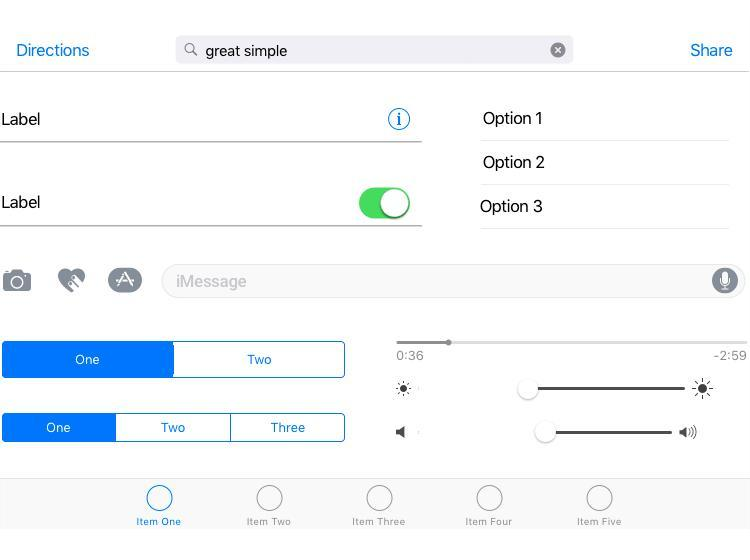icon: (105, 263, 144, 299), (51, 264, 92, 297), (1, 263, 35, 298), (713, 266, 743, 300), (387, 104, 416, 139), (690, 376, 716, 401), (395, 379, 417, 403), (679, 420, 699, 442), (395, 418, 413, 442)
input: (165, 265, 750, 298), (179, 37, 573, 66)
radio: (253, 484, 286, 514), (145, 485, 177, 515), (365, 484, 398, 513), (474, 484, 505, 514), (585, 486, 616, 514)
slider: (420, 421, 676, 445), (419, 381, 689, 402)
switch: (359, 188, 413, 220)
